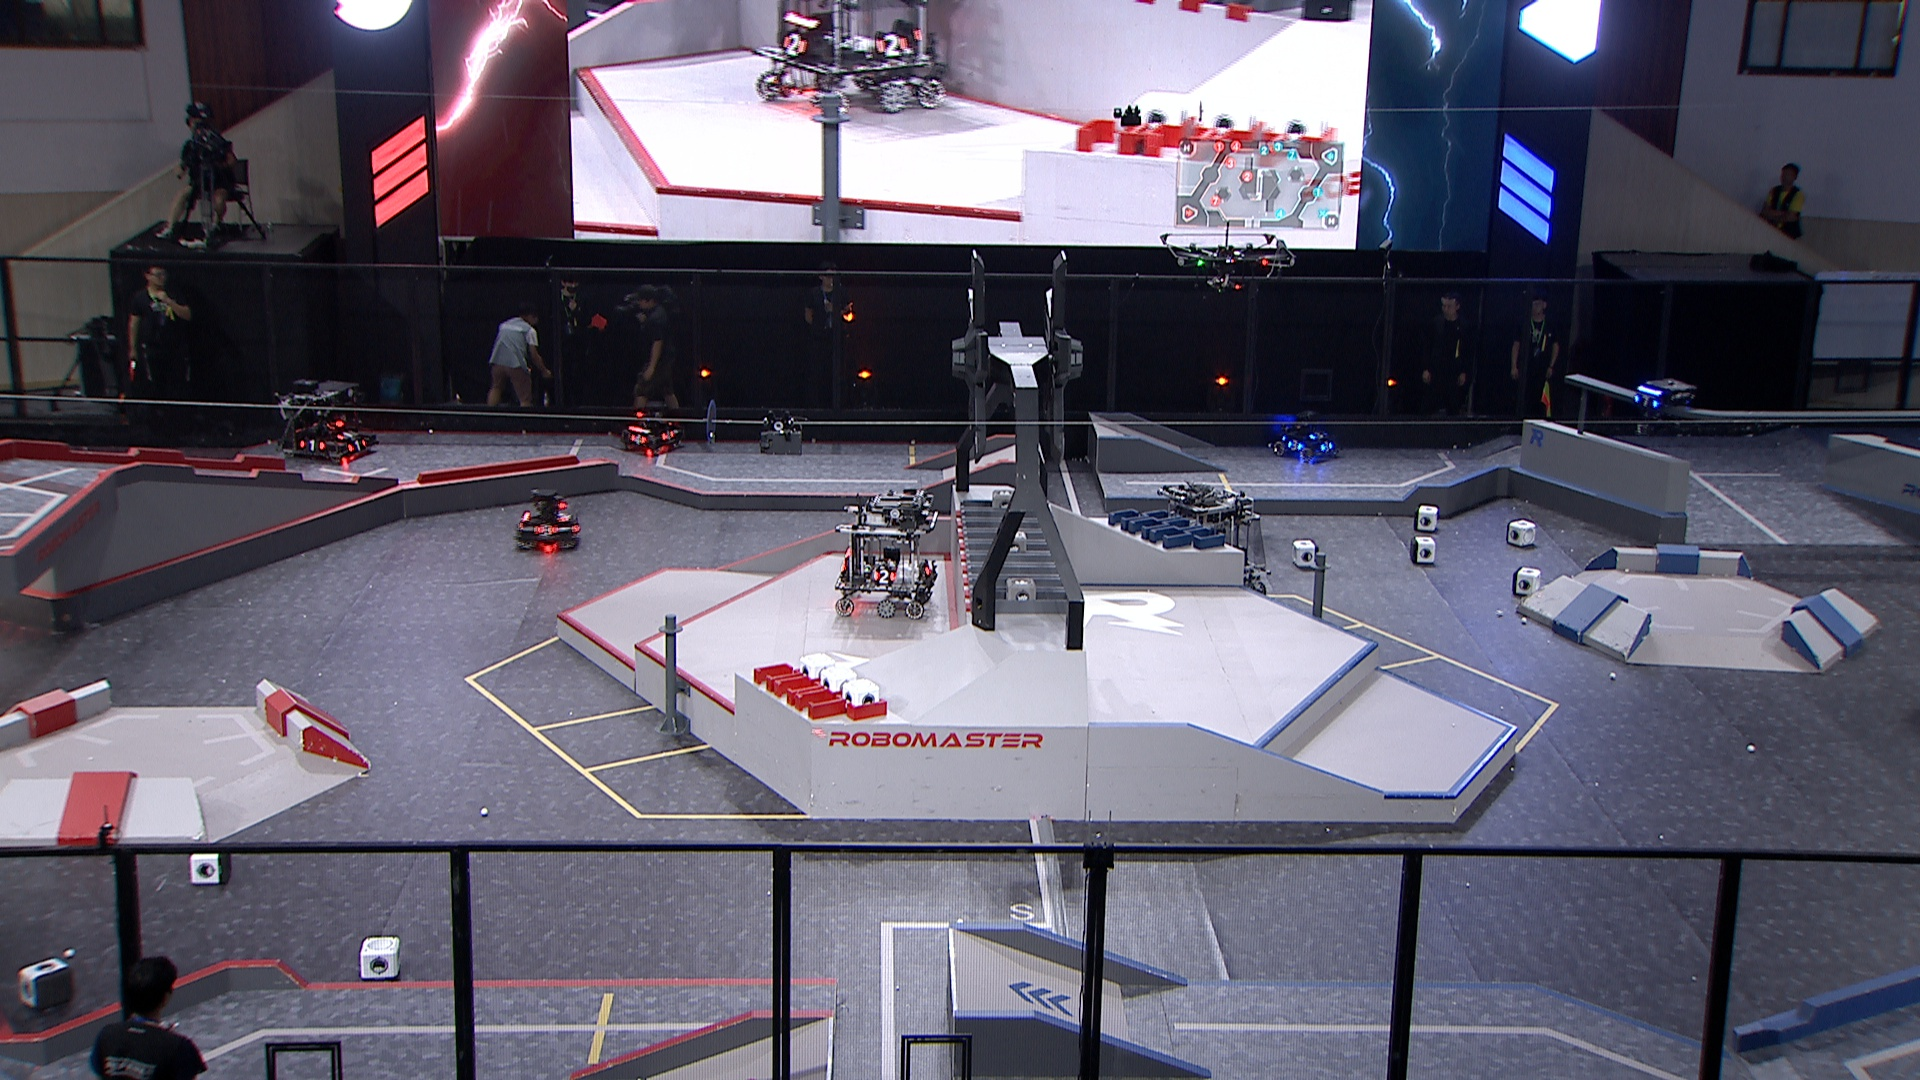armor: (1631, 392, 1659, 411), (295, 436, 327, 454), (343, 434, 371, 452), (531, 524, 556, 541), (872, 568, 895, 585), (332, 427, 359, 442), (920, 555, 936, 576), (1307, 429, 1329, 442), (628, 431, 647, 446), (1287, 436, 1304, 452), (1316, 438, 1335, 452), (657, 427, 676, 440)
car: (828, 483, 945, 618), (1149, 481, 1273, 603), (272, 378, 384, 465), (513, 487, 582, 553), (1273, 411, 1342, 465), (618, 404, 688, 458)
watcher: (1629, 373, 1695, 436)
